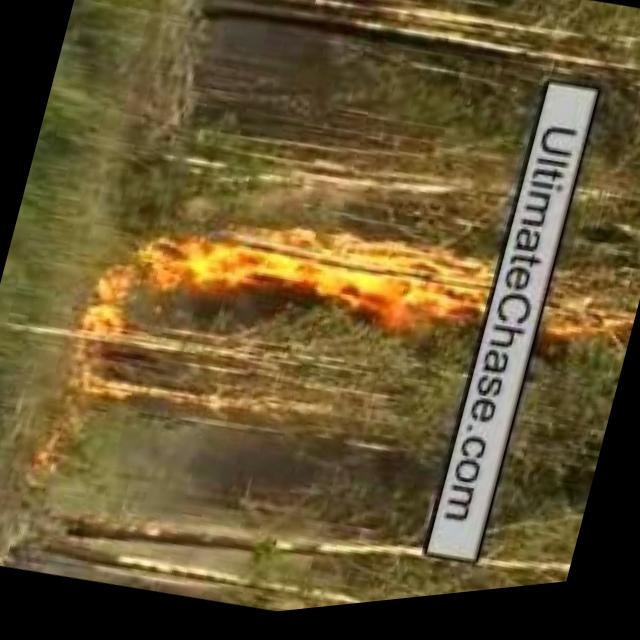Fire: (214, 201, 490, 364), (66, 209, 220, 374), (540, 297, 634, 375)
